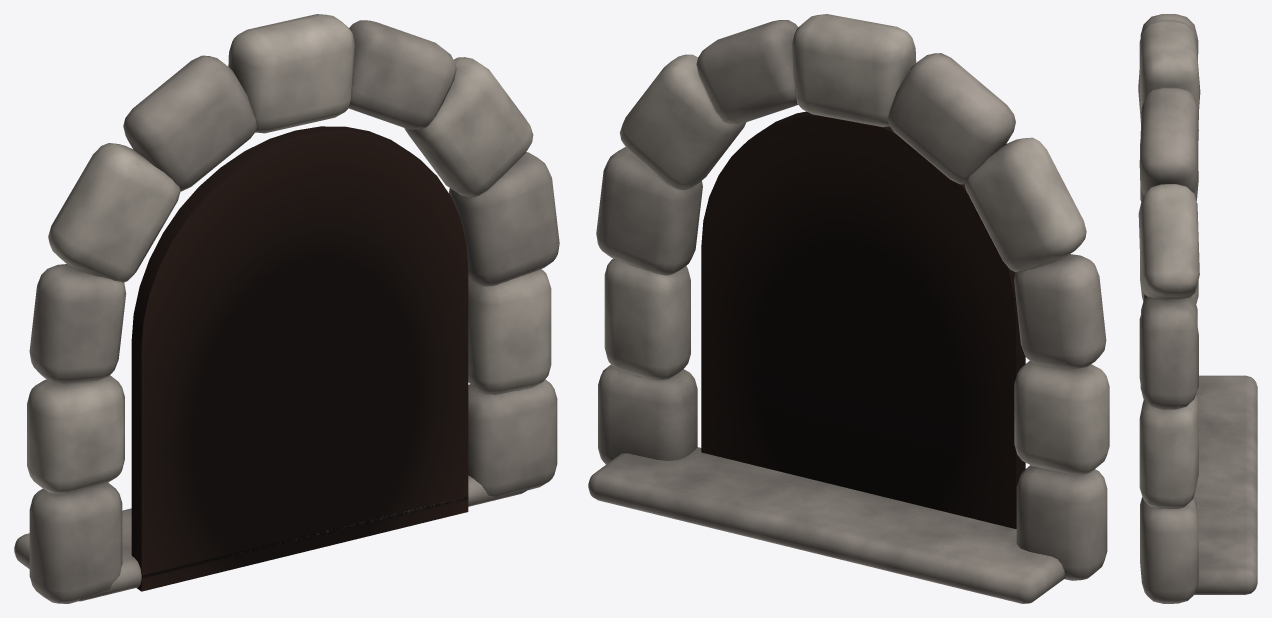
The model's file is MouseHole_Stone.fbx.
The picture shows the model from 3 angles, left to right: view 1: azimuth 30°, elevation 25°; view 2: azimuth 150°, elevation 25°; view 3: azimuth 270°, elevation 25°; orthographic projection. The views are drawn at different scales.
Parts seen in each view (by area): view 1: MouseHole_Stone; view 2: MouseHole_Stone; view 3: MouseHole_Stone.
Boxes of the visible parts, x1,y1,x2,y2 form: MouseHole_Stone: [14, 14, 559, 603]; MouseHole_Stone: [588, 14, 1109, 603]; MouseHole_Stone: [1138, 14, 1257, 603].
Bounding box in the file's own units: 1.51 × 1.44 × 0.3378.
Materials: 1 (1 with a texture image).
